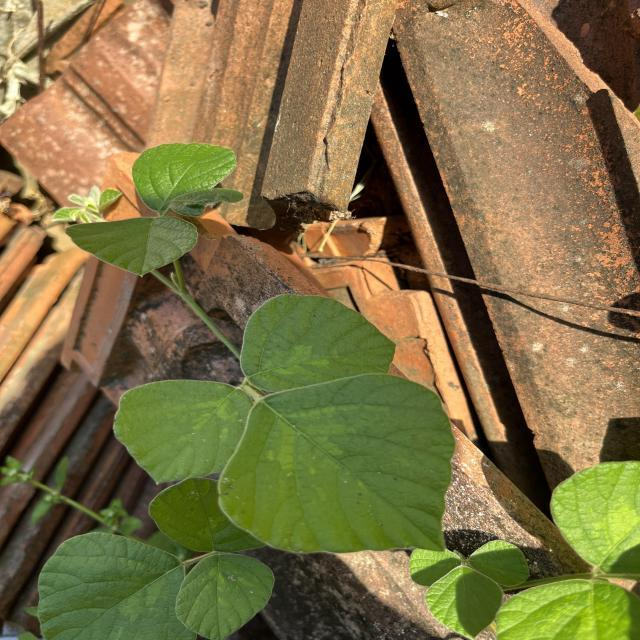Pseudarthria viscida: (108, 290, 458, 560)
